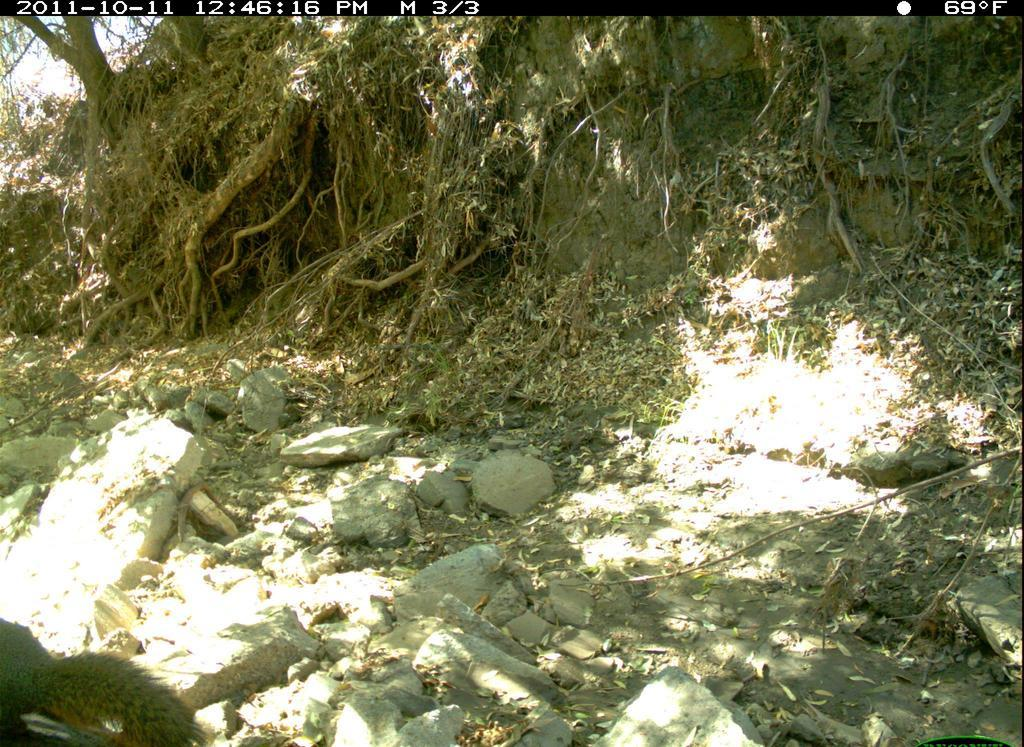squirrel: (1, 620, 219, 747)
